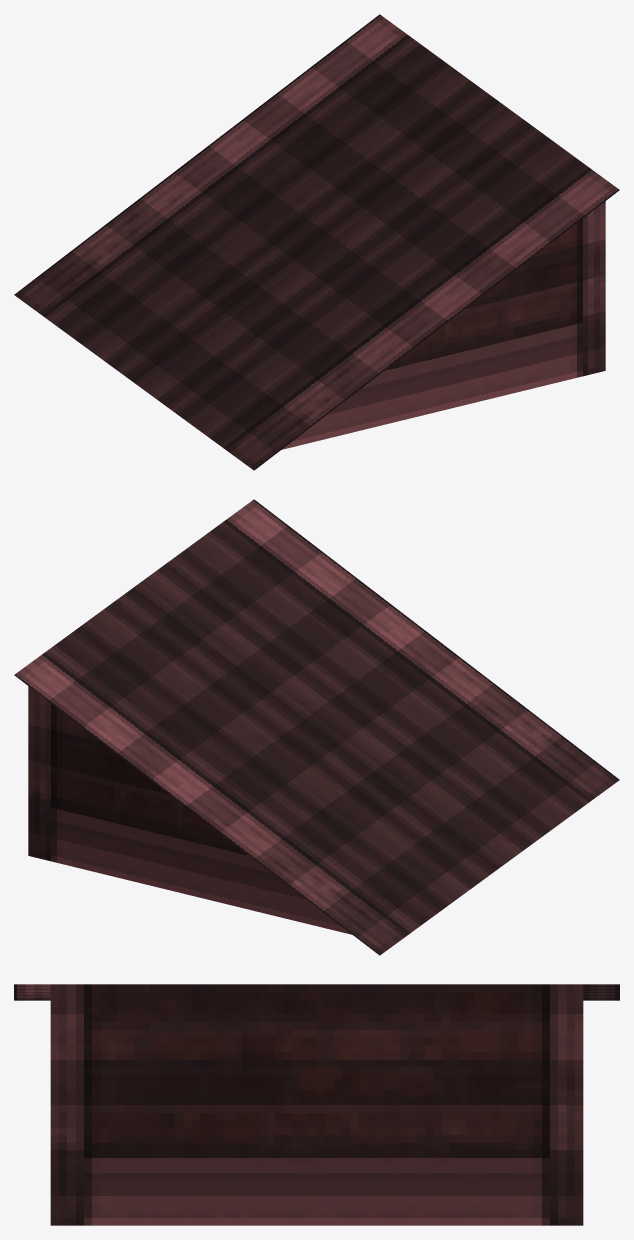
3 renders of one model, top to bottom at view 1: azimuth 30°, elevation 25°; view 2: azimuth 150°, elevation 25°; view 3: azimuth 270°, elevation 25°, orthographic. The views are drawn at different scales.
Visible parts, largest first — view 1: wall-a-roof-slant-detailed; view 2: wall-a-roof-slant-detailed; view 3: wall-a-roof-slant-detailed.
Part boxes in pixels (left/top/right/bottom): wall-a-roof-slant-detailed: left=14, top=14, right=619, bottom=470; wall-a-roof-slant-detailed: left=14, top=499, right=619, bottom=955; wall-a-roof-slant-detailed: left=14, top=984, right=619, bottom=1225.
Bounding box in the file's own units: 1 × 0.5 × 1.14.
Materials: 3 (3 with a texture image).
